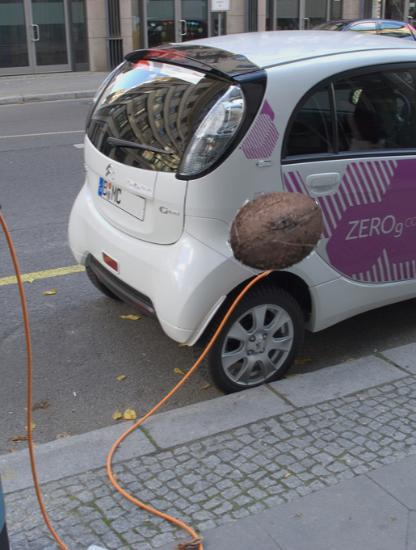Cocos: (226, 180, 326, 280)
